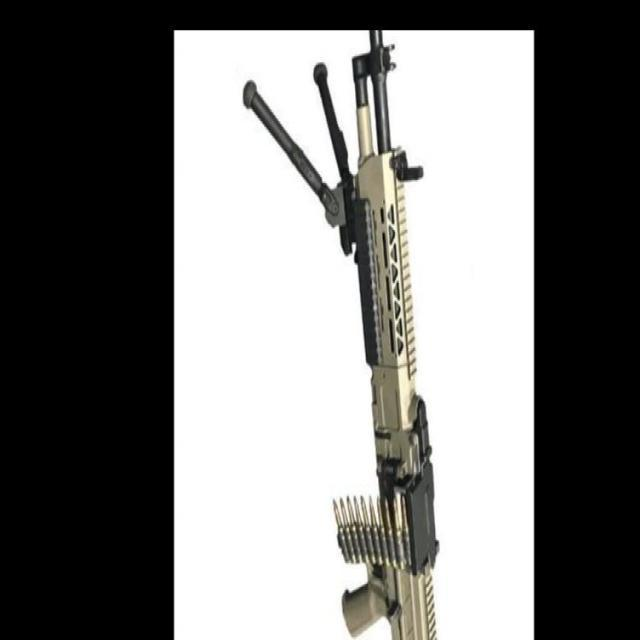weapon: (243, 31, 439, 640)
